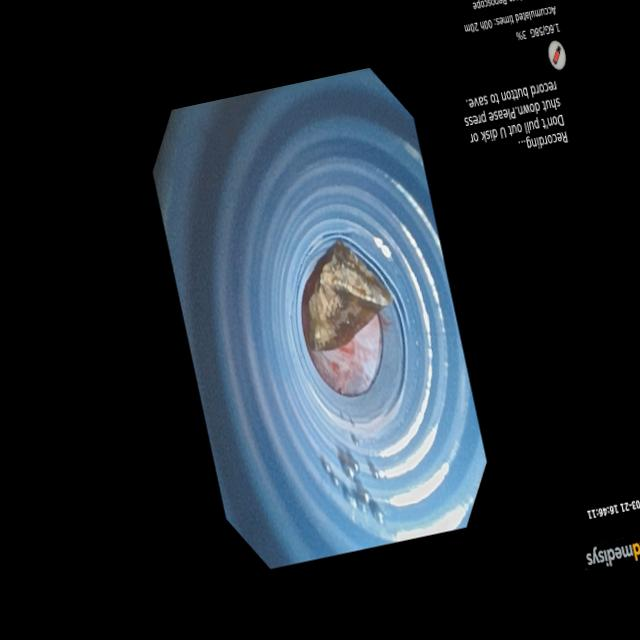stone-new: (304, 241, 392, 351)
